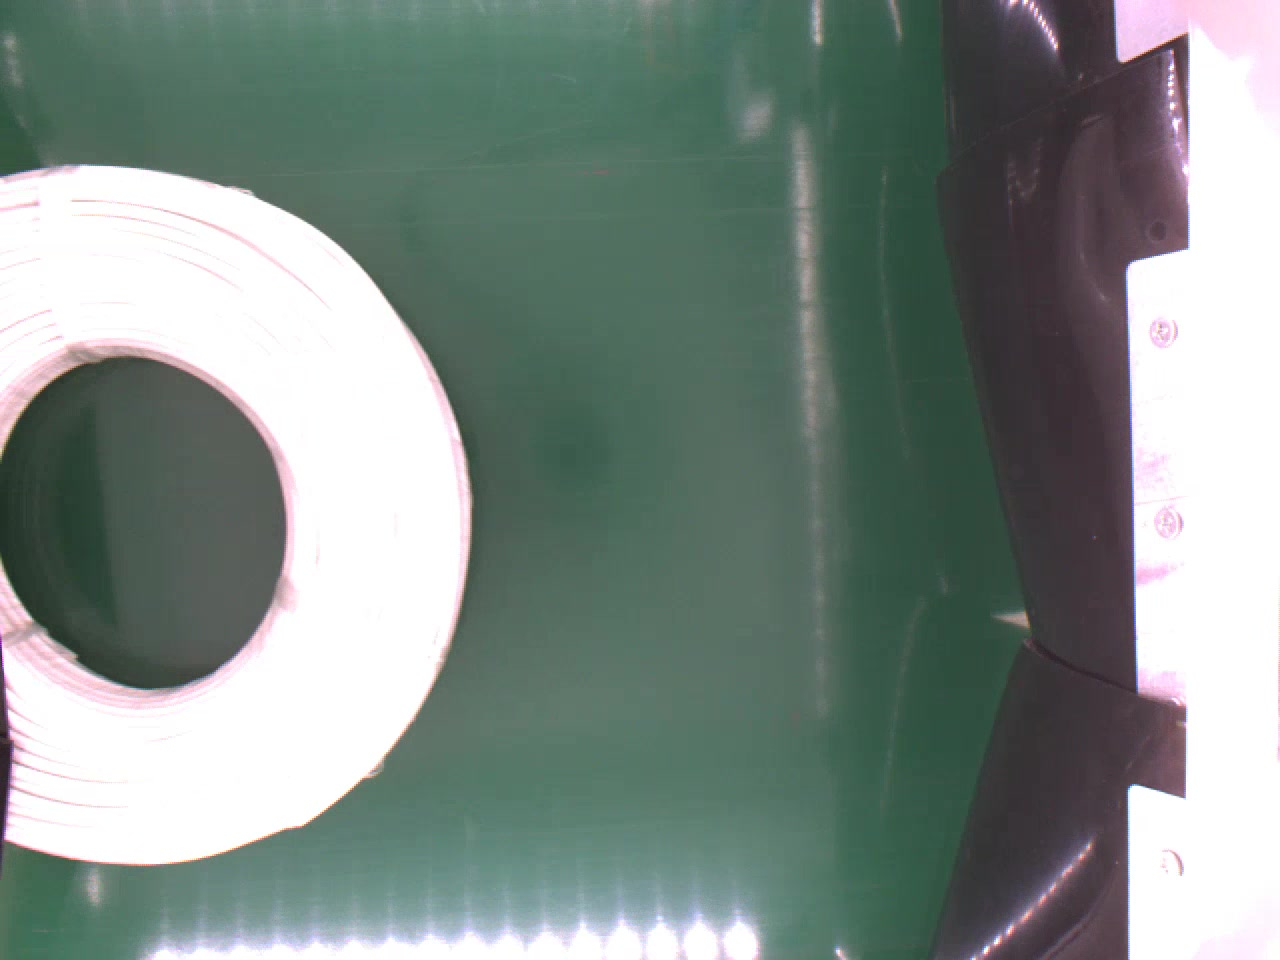white: (0, 160, 470, 866)
